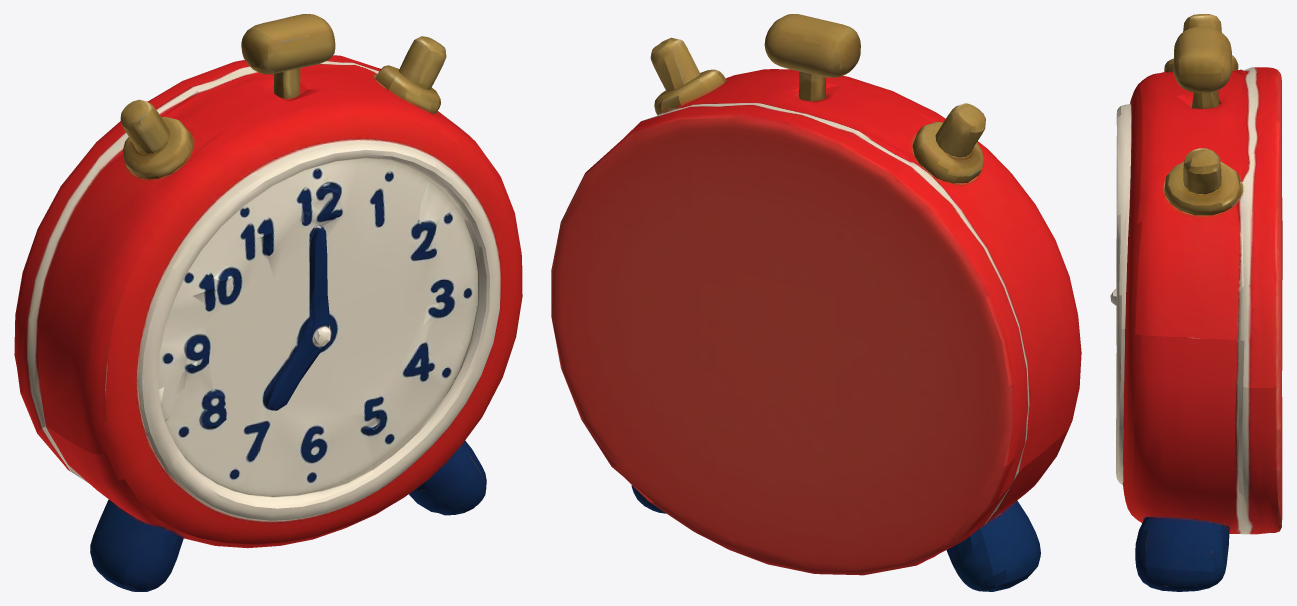
File: saat.glb
3 views of the same model, side by side, from view 1: azimuth 30°, elevation 25°; view 2: azimuth 150°, elevation 25°; view 3: azimuth 270°, elevation 25° (orthographic). The views are drawn at different scales.
Parts seen in each view (by area): view 1: Mesh0; view 2: Mesh0; view 3: Mesh0.
Boxes of the visible parts, <box> form: Mesh0: <box>14,14,522,591</box>; Mesh0: <box>551,14,1081,591</box>; Mesh0: <box>1110,14,1282,591</box>.
Bounding box in the file's own units: 1.76 × 1.9 × 0.6144.
1 material, 1 textured.
